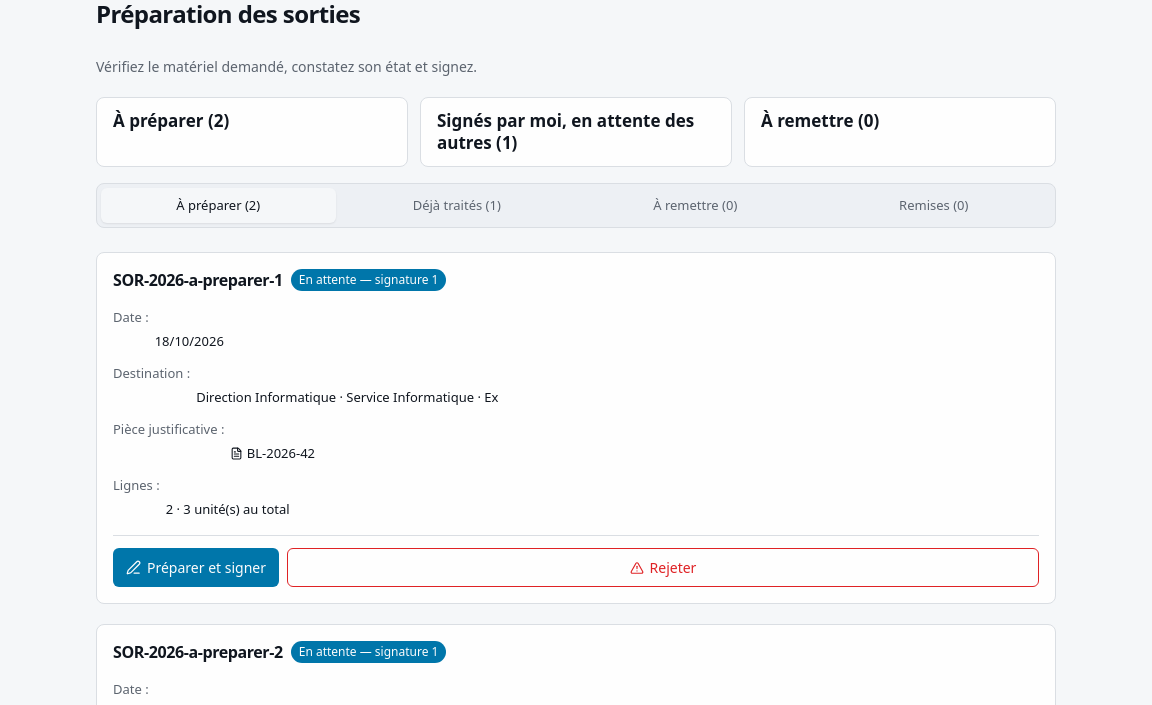
Espace magasinier — payload, rejet, arrivée d'un nouvel ordre › E5 : le rejet exige un motif, puis l'ordre quitte « À préparer »
Step 1. Click the button "Rejeter" → (663, 568), box [287,548,1039,588]
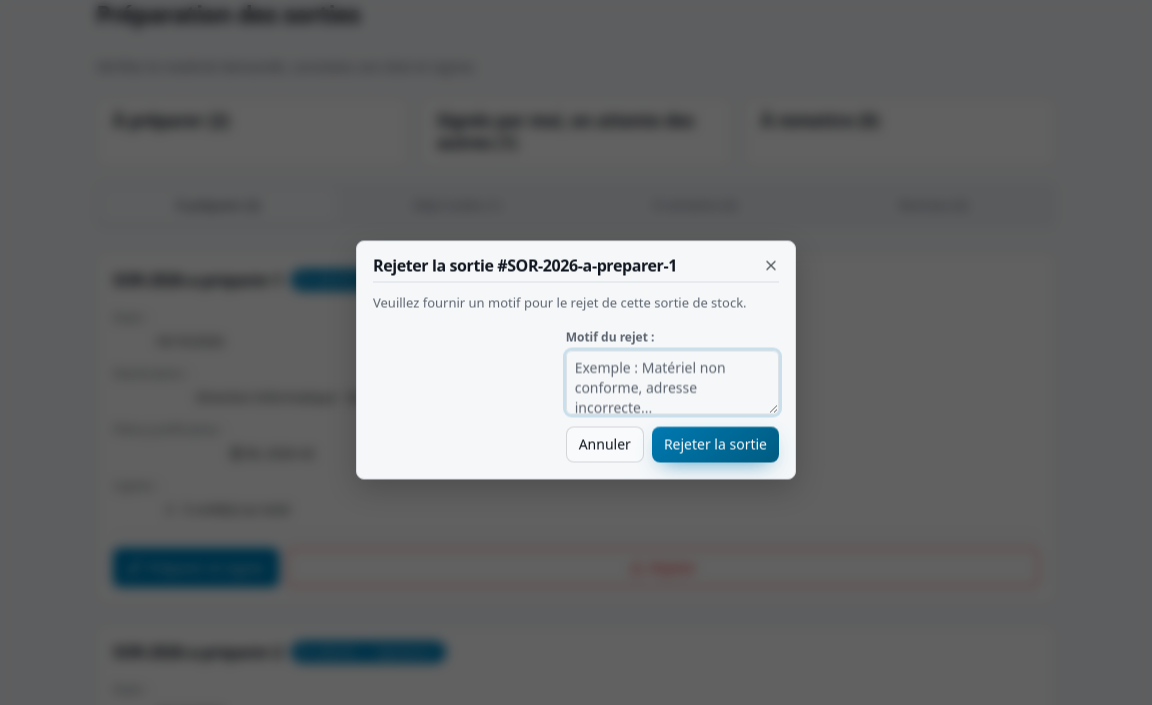
expect the dialog is shown: met, box [356,240,796,480]
Note: Soumettre sans motif → erreur, rien d'envoyé.
Step 2. Click the button "Rejeter la sortie" → (715, 444), box [652,426,779,462]
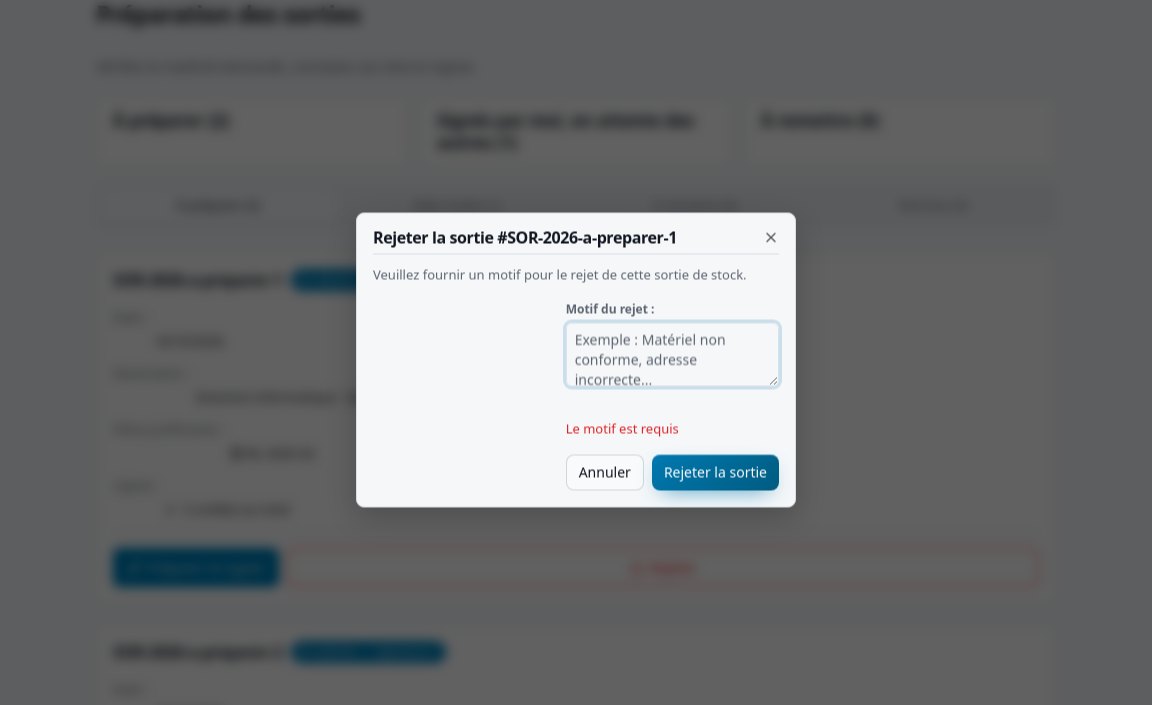
expect the text "Le motif est requis" is shown: met, box [566,420,679,438]
Note: Avec motif → rejet enregistré, l'ordre disparaît de l'onglet.
Step 3. Type "Matériel non conforme" into the text box labelled "Motif du rejet :" → (672, 354), box [566,322,779,386]
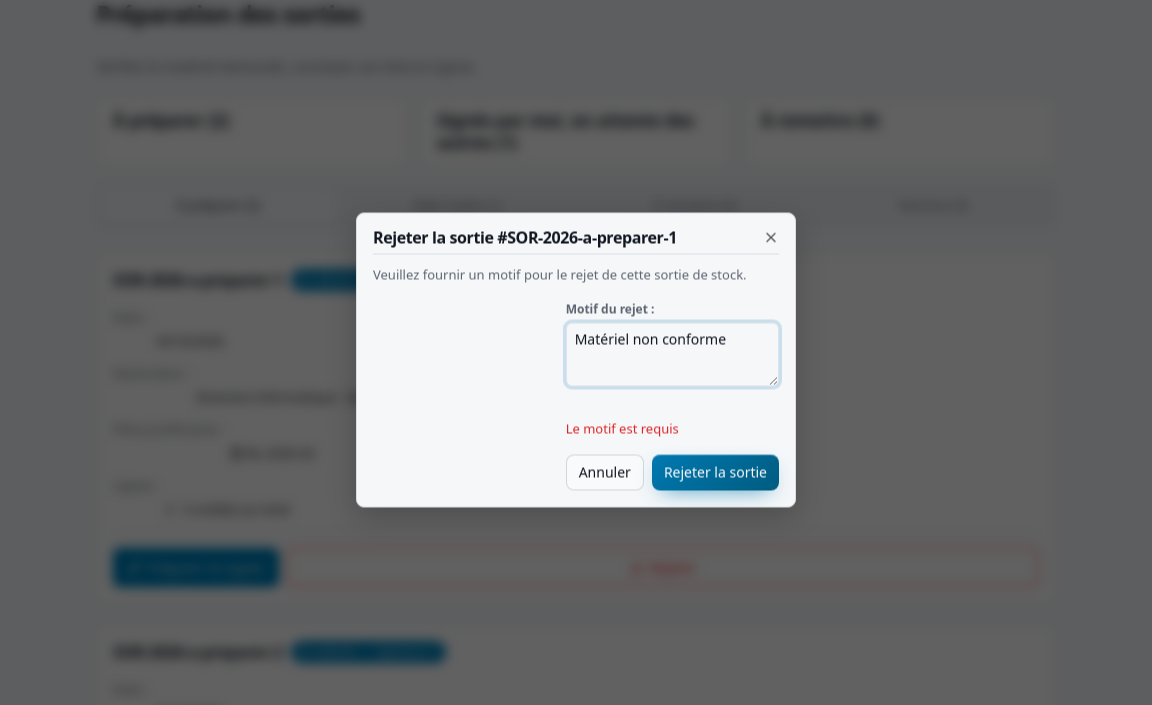
Step 4. Click the button "Rejeter la sortie" → (715, 472), box [652,454,779,490]
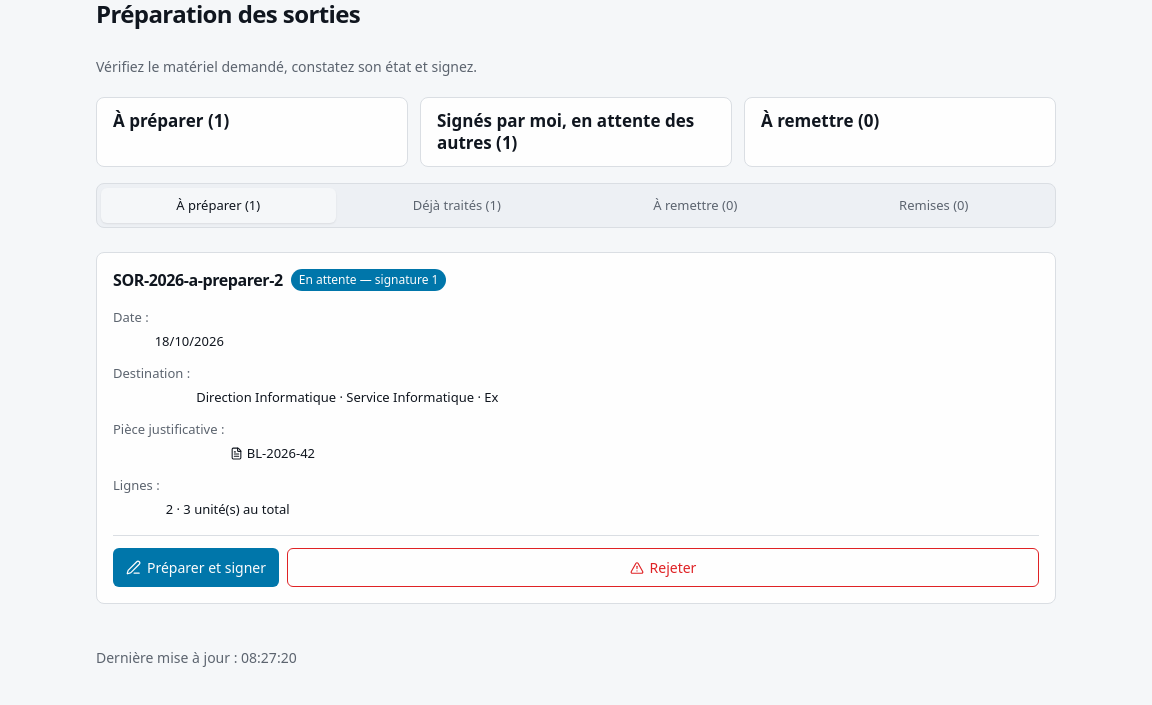
expect the heading "SOR-2026-a-preparer-2" is shown: met, box [113,270,283,291]
expect the heading "SOR-2026-a-preparer-1" is gone: met
